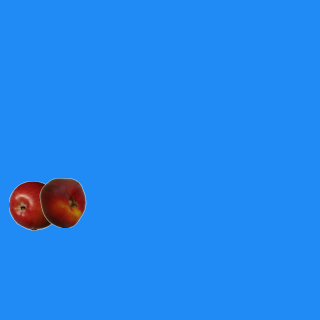Apple Braeburn: (8, 180, 58, 230)
Nectarine Flat: (37, 177, 87, 227)
